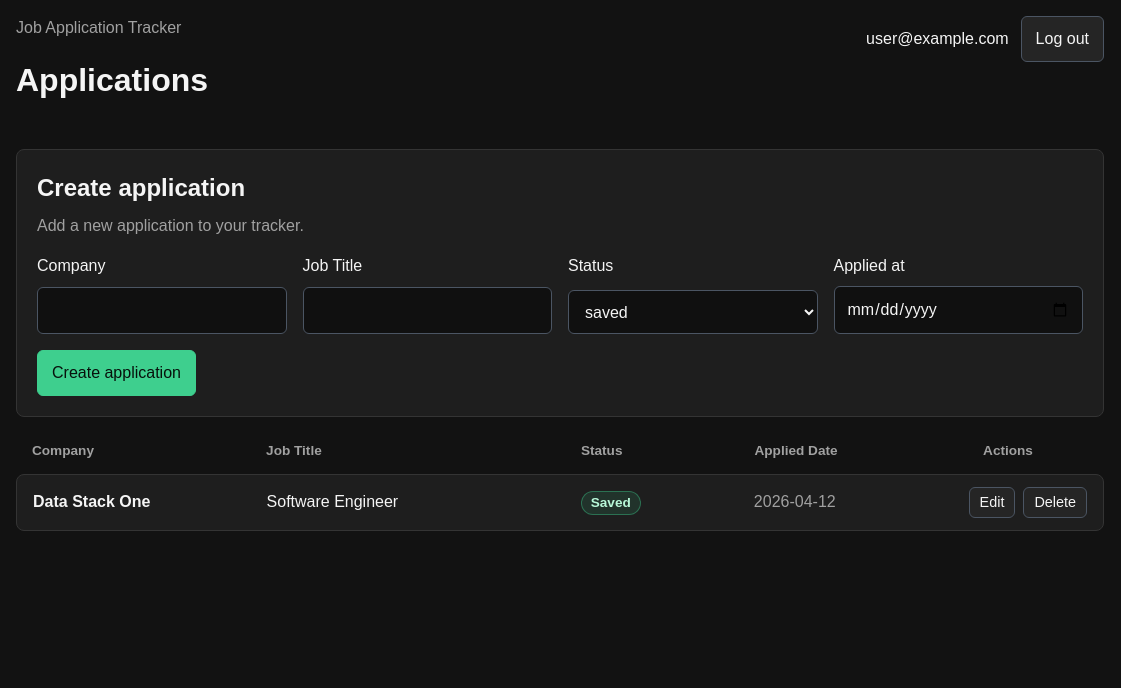
Test: ApplicationsPage update flow › disables the edit form while a save is in flight
Step 1. Click the button "Edit" → (992, 502), box [969,487,1015,518]
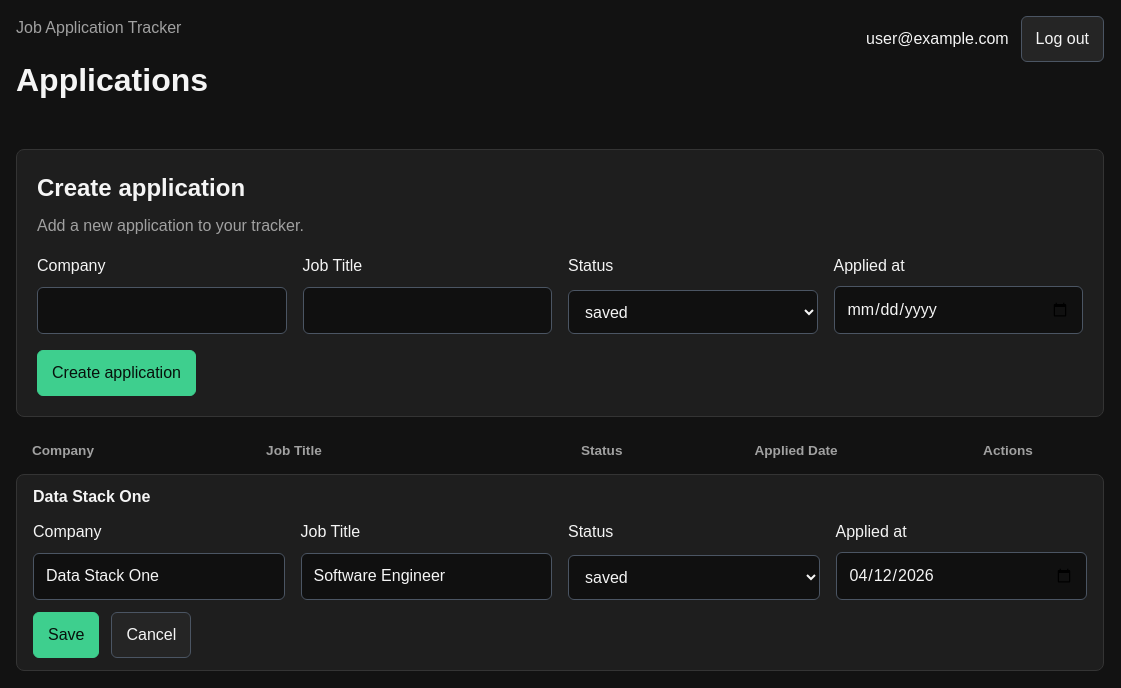
Step 2. Replace the text in the field labelled "Company" below "Data Stack One" with "Acme Labs" → (159, 576), box [33,553,284,600]
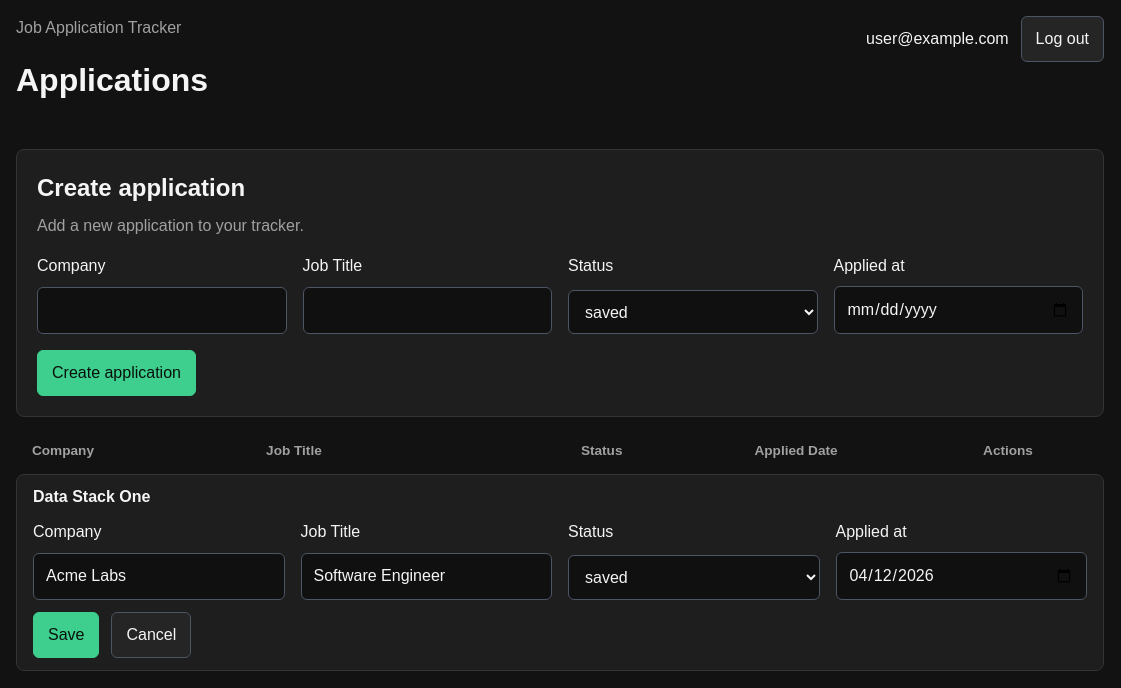
Step 3. Click the button "Save" → (66, 635), box [33,612,100,658]
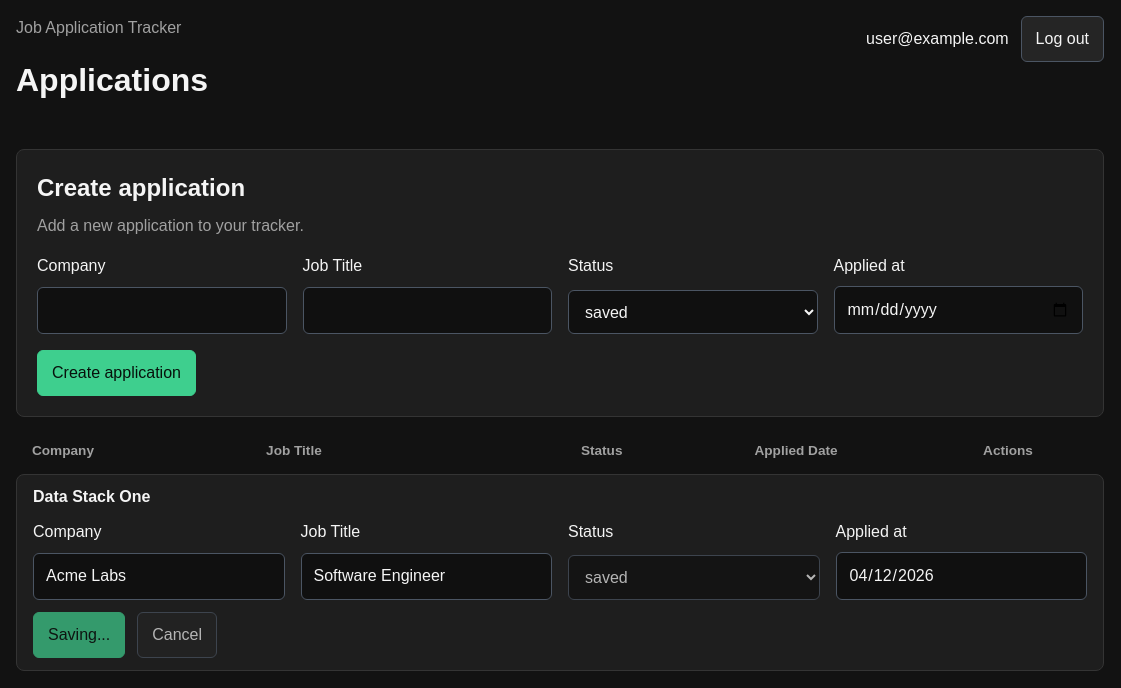
Now the dropdown labelled "Status" below "Applied Date" is disabled, box [568,555,820,600]
Now the button "Saving..." is disabled, box [33,612,125,658]
Now the button "Cancel" is disabled, box [137,612,217,658]
